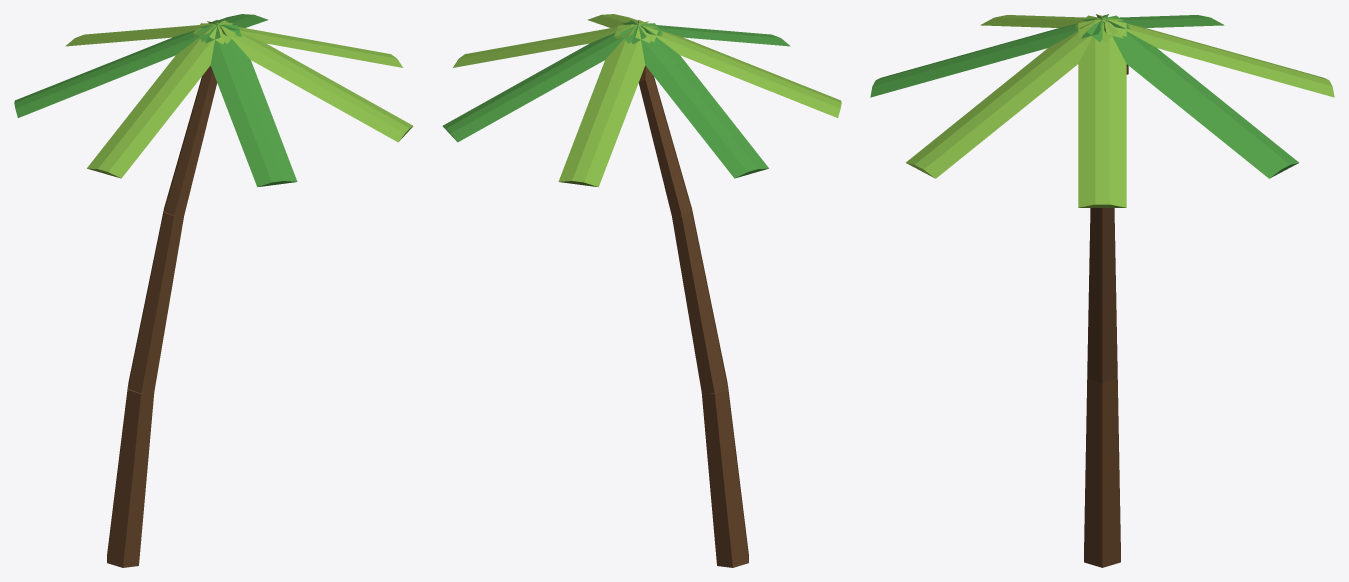
Rendered from nat_palm.glb.
The picture shows the model from 3 angles, left to right: view 1: azimuth 30°, elevation 25°; view 2: azimuth 150°, elevation 25°; view 3: azimuth 270°, elevation 25°; orthographic projection. The views are drawn at different scales.
Visible parts, largest first — view 1: nat_palm__mesh; view 2: nat_palm__mesh; view 3: nat_palm__mesh.
Part boxes in pixels (box(x1,y1,x2,y2)): nat_palm__mesh: box(14, 14, 413, 567); nat_palm__mesh: box(442, 14, 841, 567); nat_palm__mesh: box(870, 14, 1334, 567).
Size of the model in its own units: 4.68 by 6.74 by 4.78.
